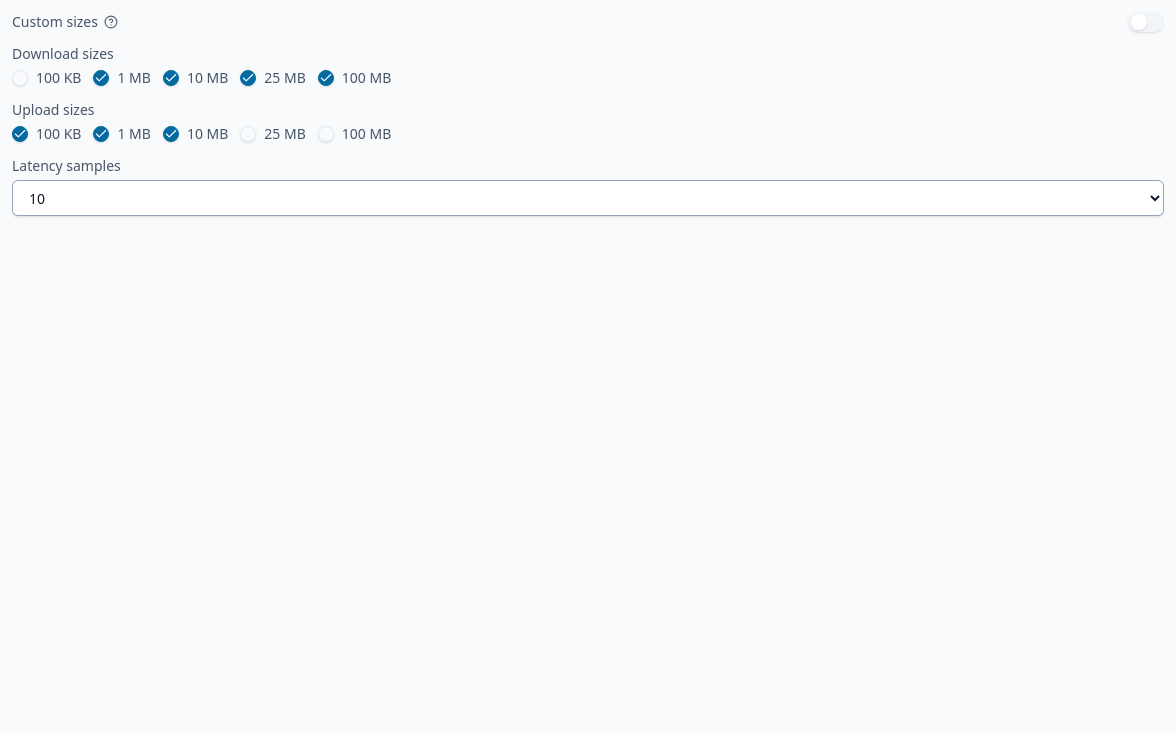
CloudflareFields: Custom sizes toggle › starts off with default options and reveals rows once switched on
Click the switch named "Custom sizes": (1146, 22) [1128,12,1164,32]
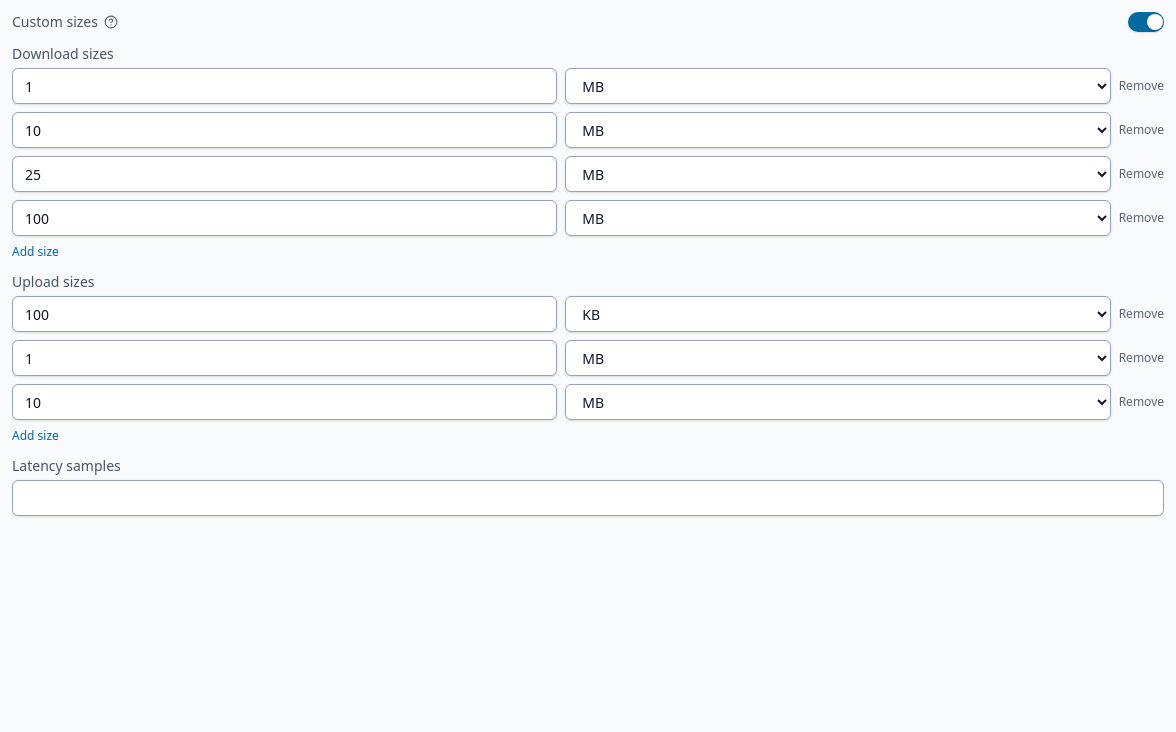
Check: the field named "download size 1" is shown, box [12,68,557,104]
